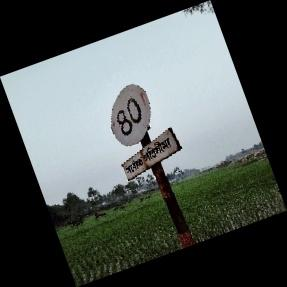Speed-limit: (110, 84, 183, 181)
